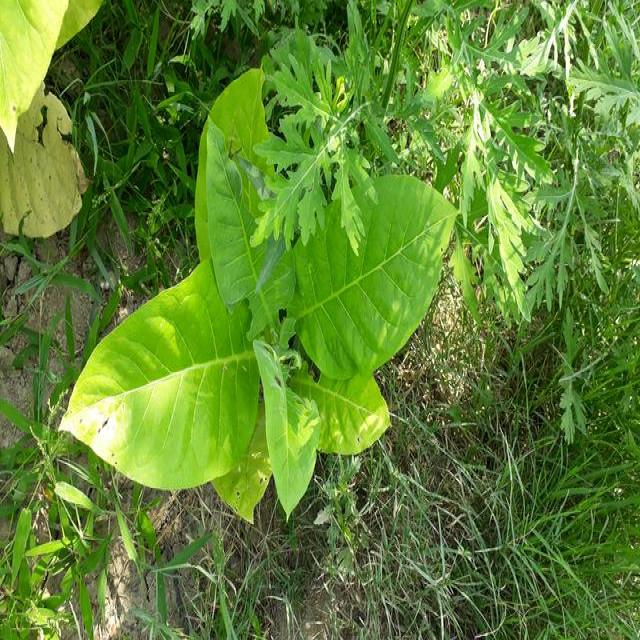crop: (102, 107, 438, 489), (2, 2, 88, 230)
